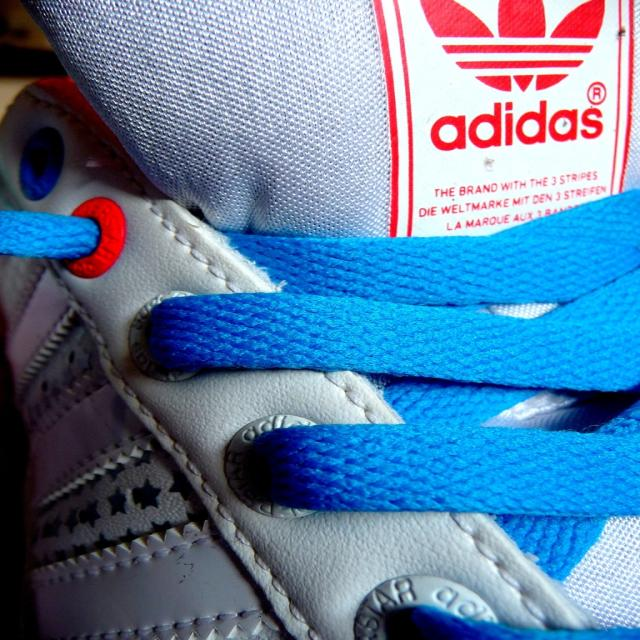adidas: (410, 2, 624, 159)
